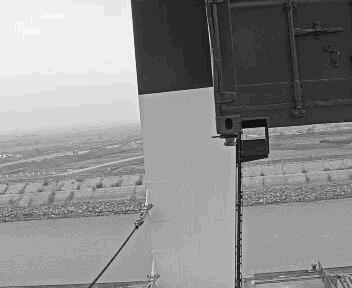twist_lock_1: (218, 124, 244, 147)
